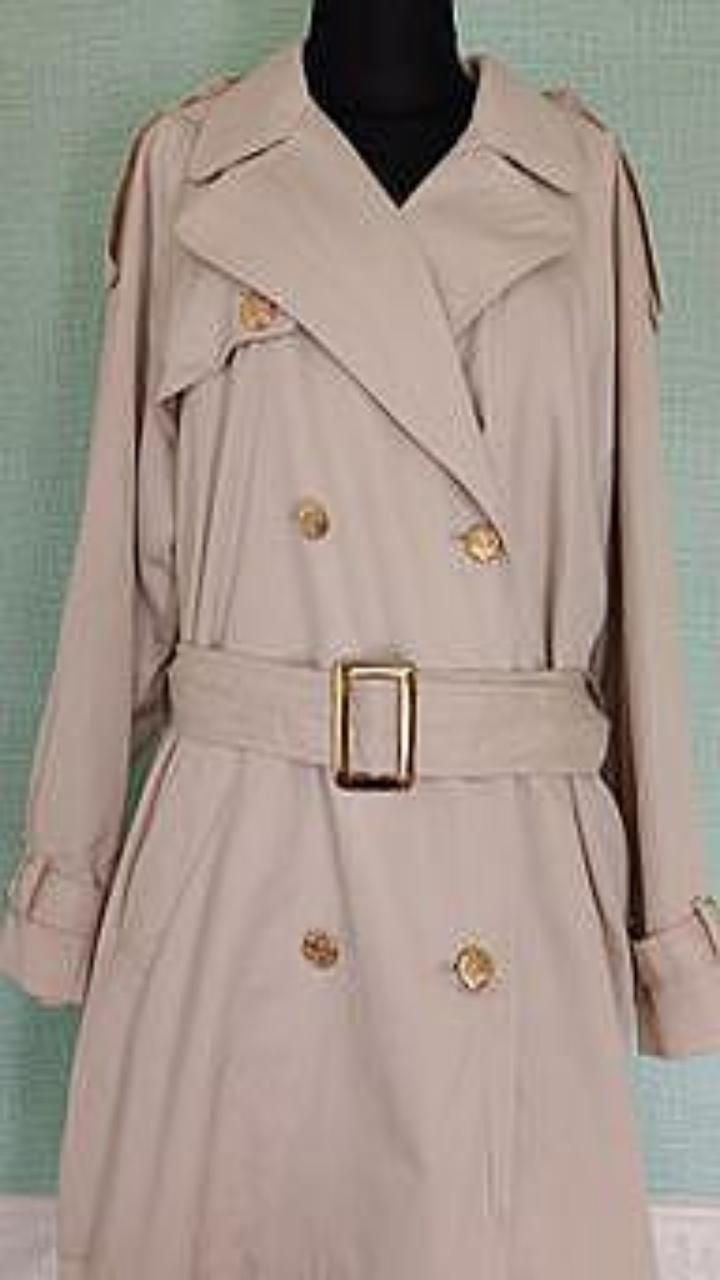Coat: (0, 42, 719, 1279)
